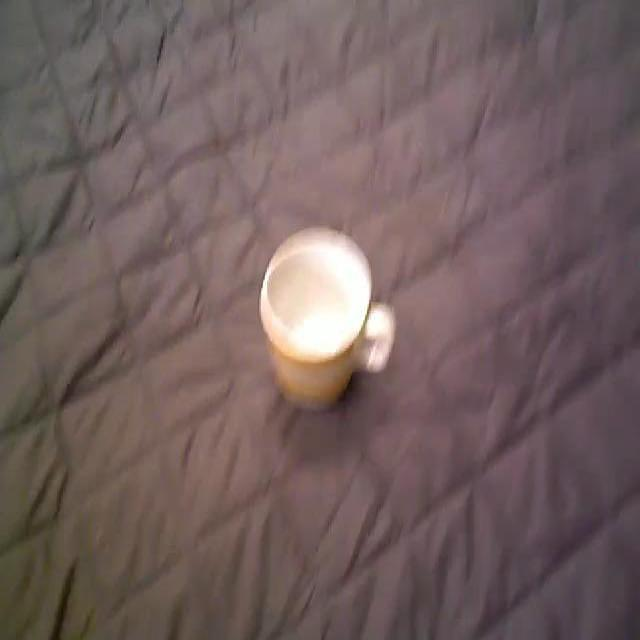cup: (258, 225, 402, 406)
